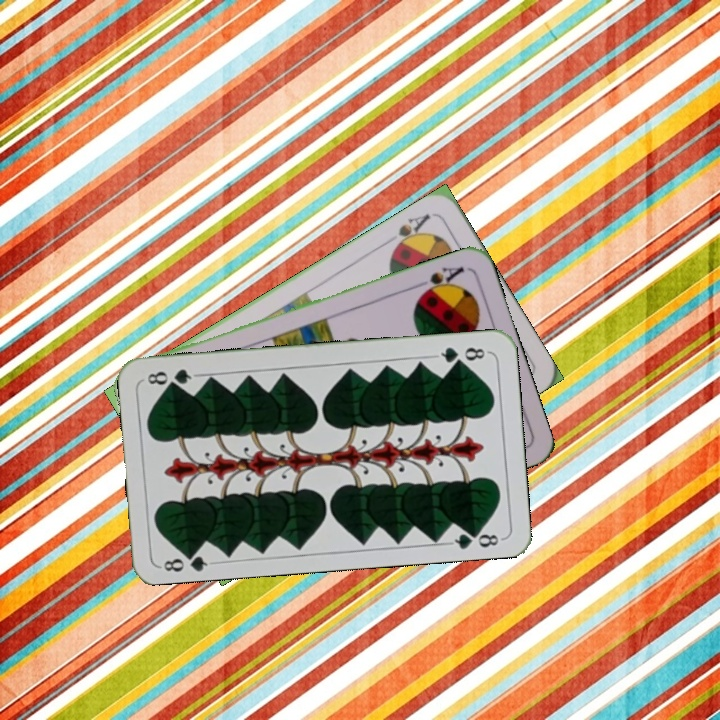G8: (157, 546, 216, 575), (432, 343, 491, 367)
SA: (411, 262, 467, 299), (388, 209, 433, 255)
